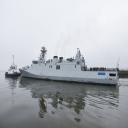Fragata: (18, 35, 121, 89)
